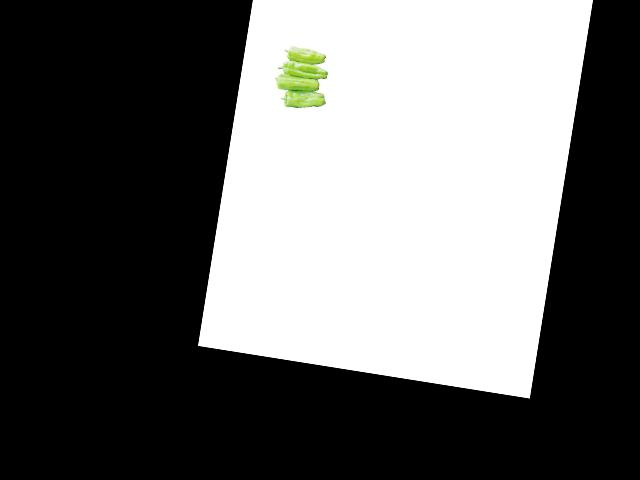bell_pepper: (277, 86, 330, 113)
